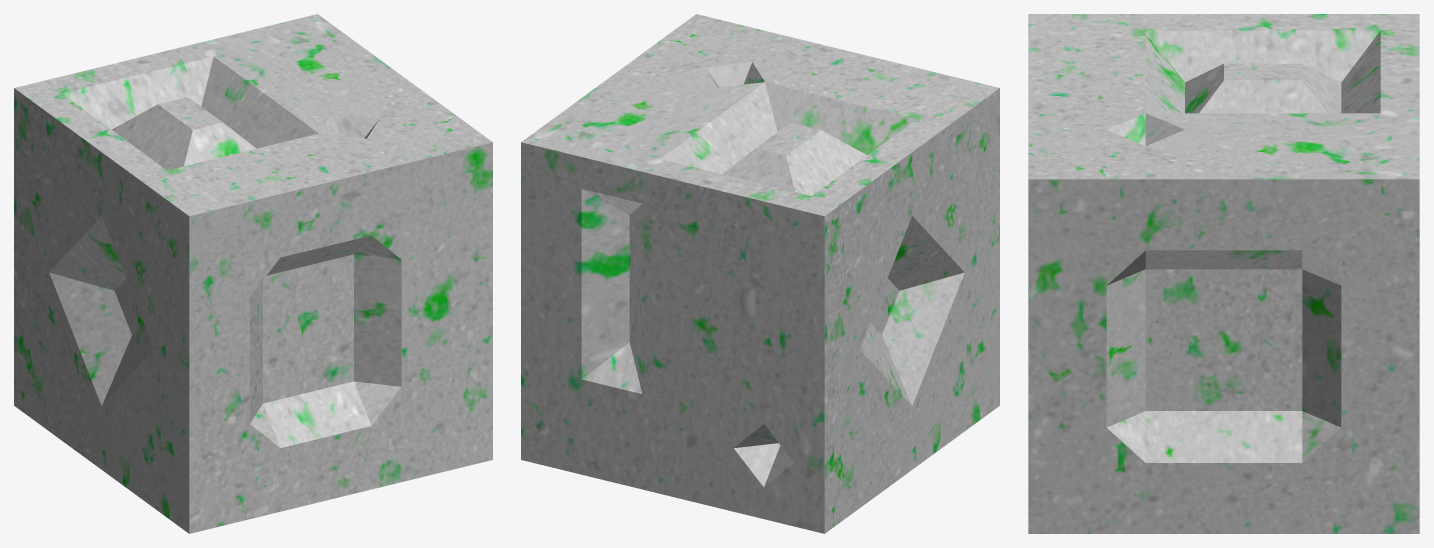
Rendered from borosilicate.glb.
The picture shows the model from 3 angles, left to right: view 1: azimuth 30°, elevation 25°; view 2: azimuth 150°, elevation 25°; view 3: azimuth 270°, elevation 25°; orthographic projection. The views are drawn at different scales.
Visible parts, largest first — view 1: borosilicate; view 2: borosilicate; view 3: borosilicate.
Boxes of the visible parts, <box> form: borosilicate: <box>14,14,492,533</box>; borosilicate: <box>521,14,999,533</box>; borosilicate: <box>1028,14,1419,533</box>.
Size of the model in its own units: 1 by 1 by 1.
1 material, 1 textured.
